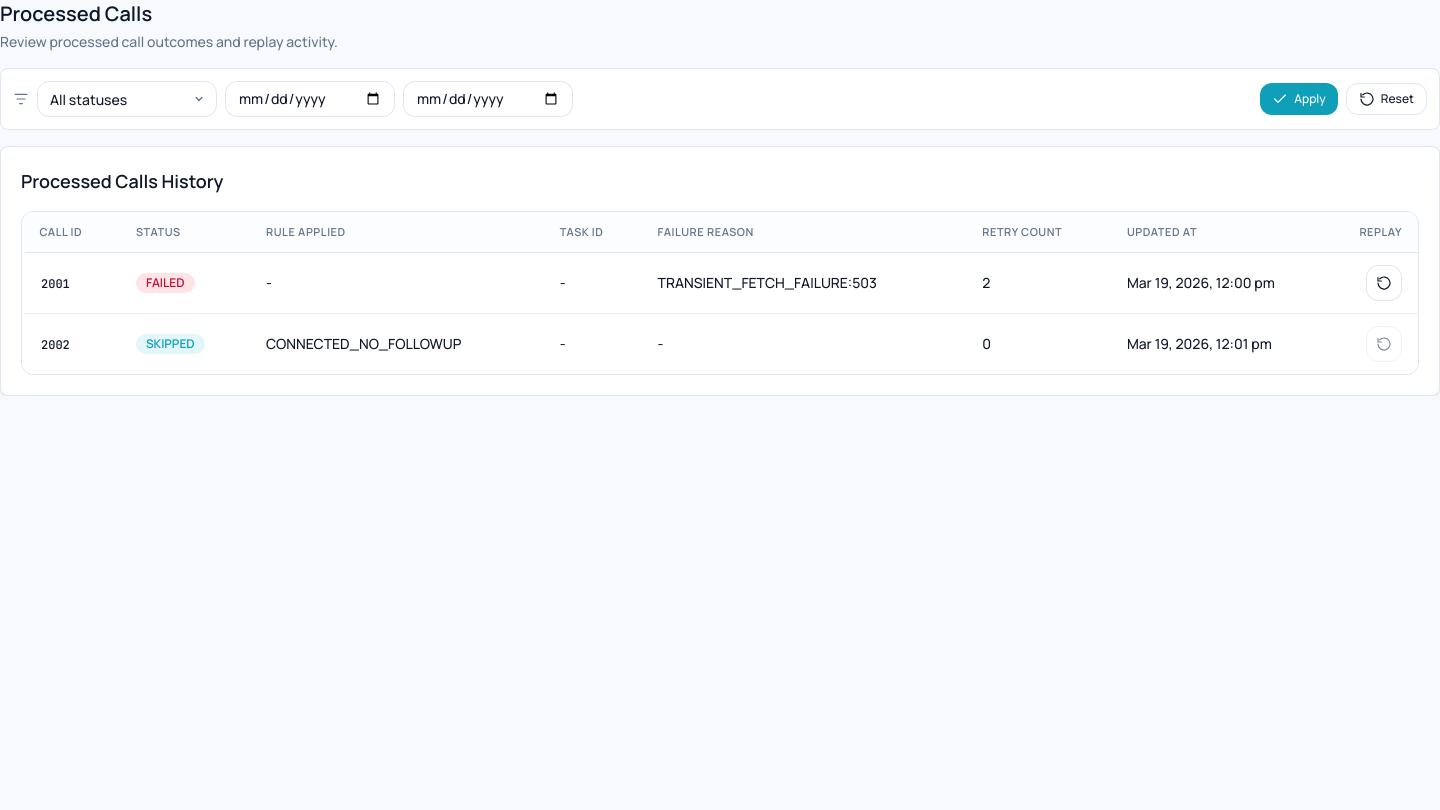
Scenario: Processed Calls page Step 4 › maps replay 404 responses to explicit user feedback
Check: the text "2001" is shown, box [41,276,70,292]
Click the button with test id "processed-calls-replay-2001" at (1384, 283), box [1366,265,1402,301]
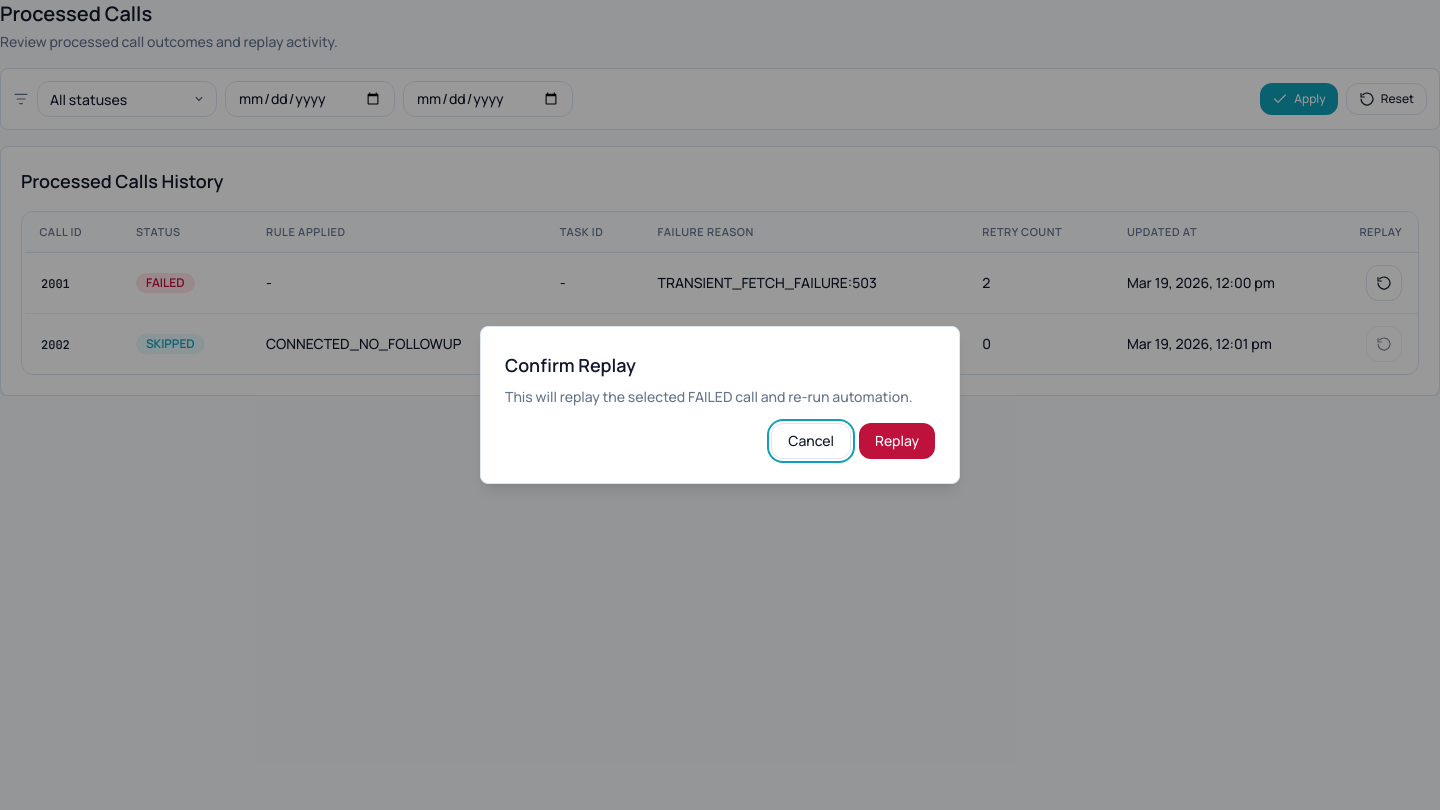
Click the button "Replay" at (897, 441), box [859,423,935,459]
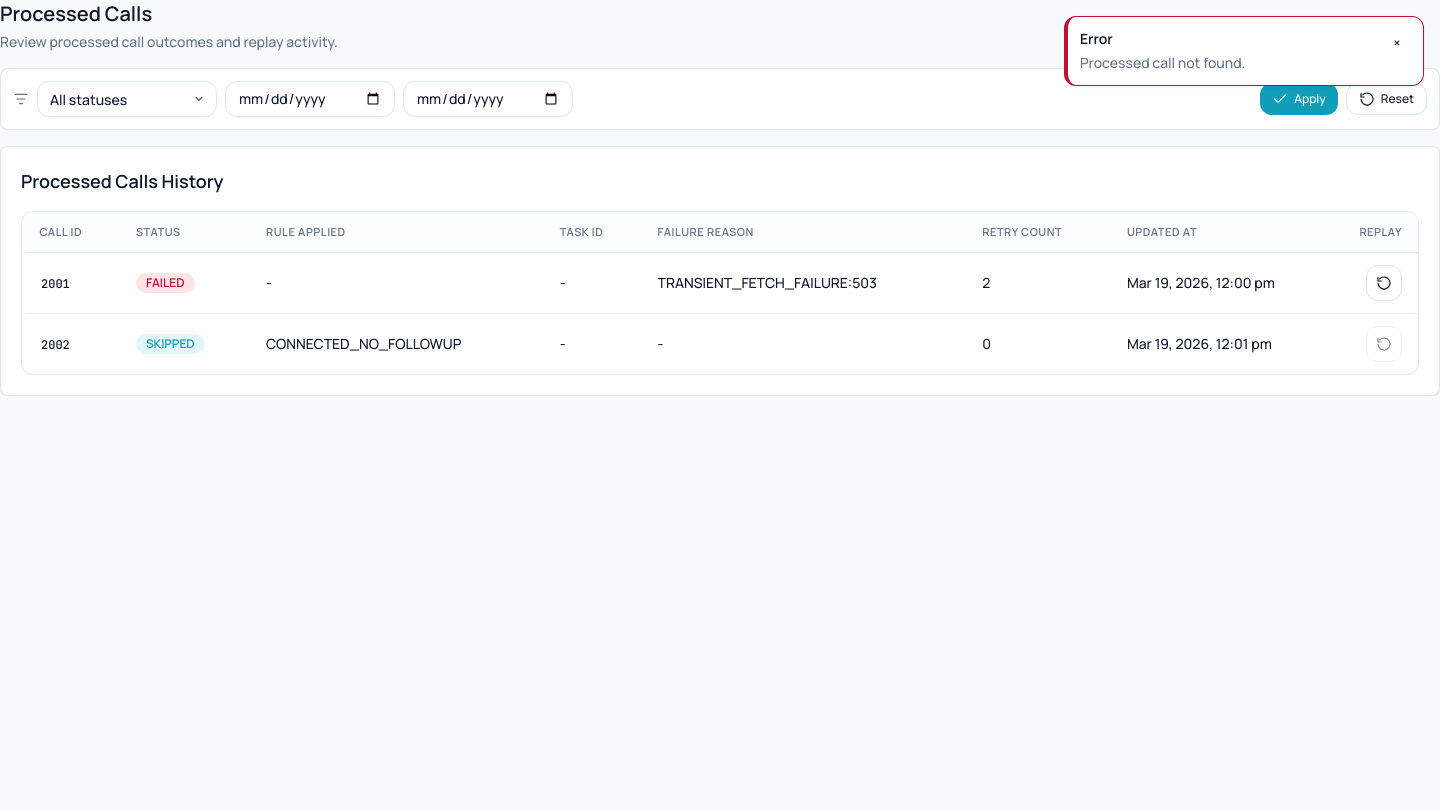
Check: the text "Processed call not found." is shown, box [1080,53,1245,73]
